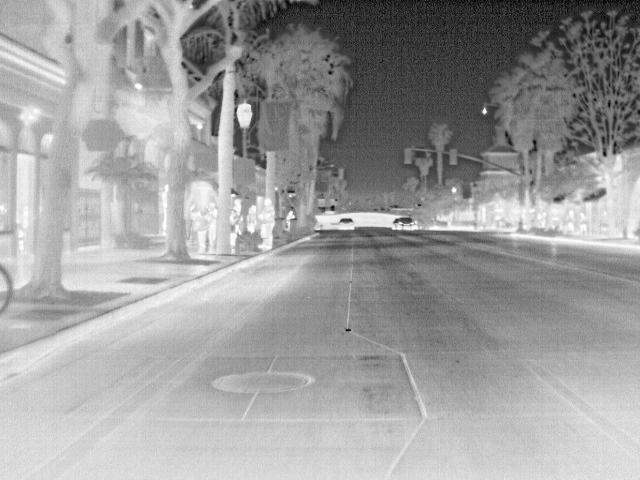car: (392, 214, 418, 230), (334, 218, 357, 232)
person: (257, 197, 278, 249), (228, 201, 245, 252), (203, 200, 218, 251), (244, 202, 259, 236), (283, 207, 299, 234), (563, 209, 579, 234), (577, 212, 591, 237)
